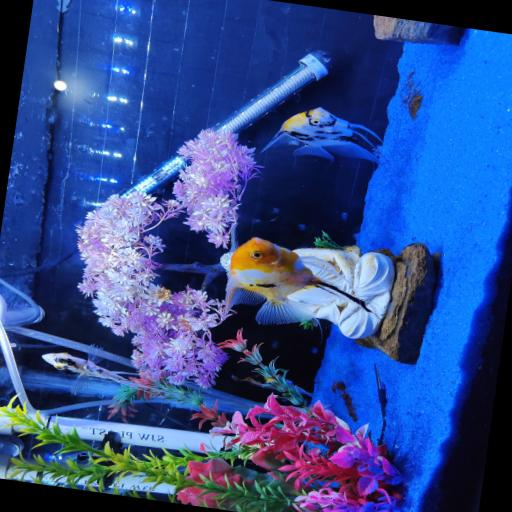Fish: (226, 238, 369, 324), (263, 108, 381, 163), (43, 353, 148, 394), (43, 353, 146, 388)
